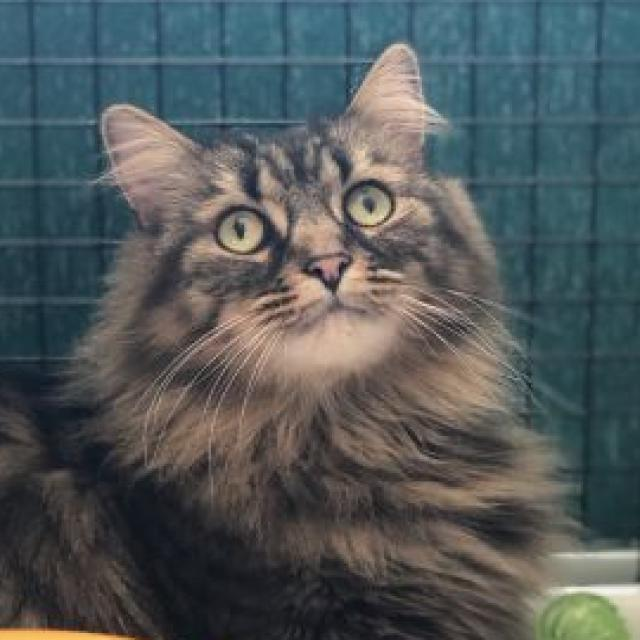Maine Coon: (0, 41, 585, 640)
